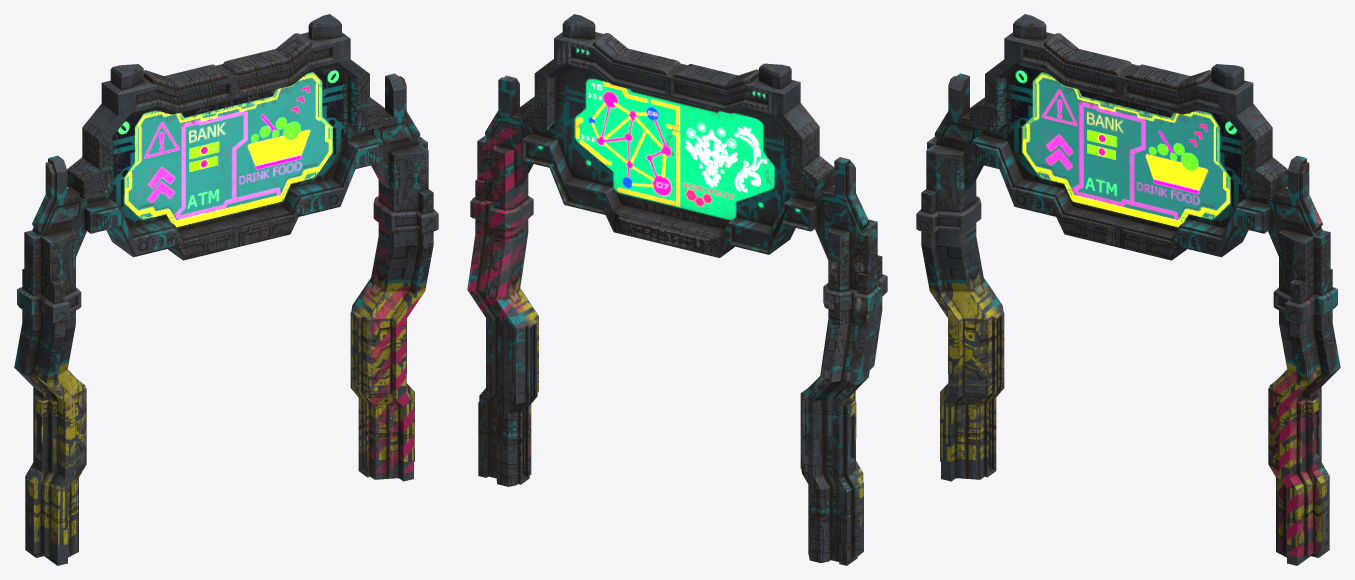
File: FUT0410011.fbx
The picture shows the model from 3 angles, left to right: view 1: azimuth 30°, elevation 25°; view 2: azimuth 150°, elevation 25°; view 3: azimuth 330°, elevation 25°; orthographic projection.
Visible parts, largest first — view 1: smFUT0410011; view 2: smFUT0410011; view 3: smFUT0410011.
Part boxes in pixels (left/top/right/bottom): smFUT0410011: left=14, top=14, right=438, bottom=565; smFUT0410011: left=467, top=14, right=887, bottom=565; smFUT0410011: left=916, top=14, right=1340, bottom=565.
Size of the model in its own units: 412 by 459 by 67.1.
Materials: 1 (1 with a texture image).
